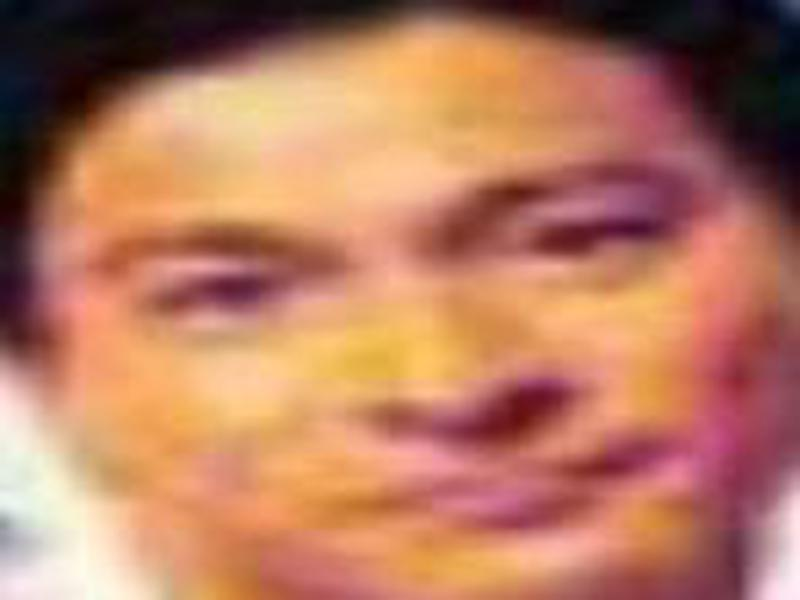without_mask: (42, 70, 763, 589)
